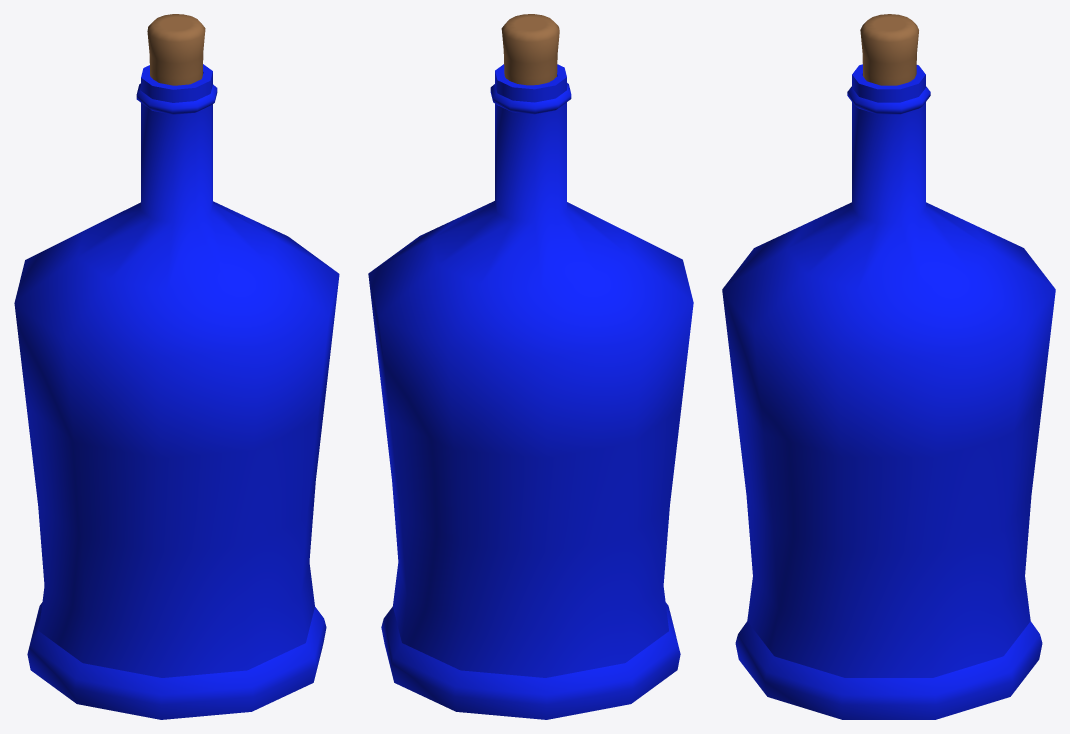
File: WineBottleVar4.fbx
The picture shows the model from 3 angles, left to right: view 1: azimuth 30°, elevation 25°; view 2: azimuth 150°, elevation 25°; view 3: azimuth 270°, elevation 25°; orthographic projection.
Parts seen in each view (by area): view 1: WineBottleVar4; view 2: WineBottleVar4; view 3: WineBottleVar4.
Part boxes in pixels (x1,y1,x2,y2): WineBottleVar4: (14, 14, 339, 719); WineBottleVar4: (368, 14, 693, 719); WineBottleVar4: (722, 14, 1055, 719).
Bounding box in the file's own units: 36.2 × 79.96 × 38.07.
